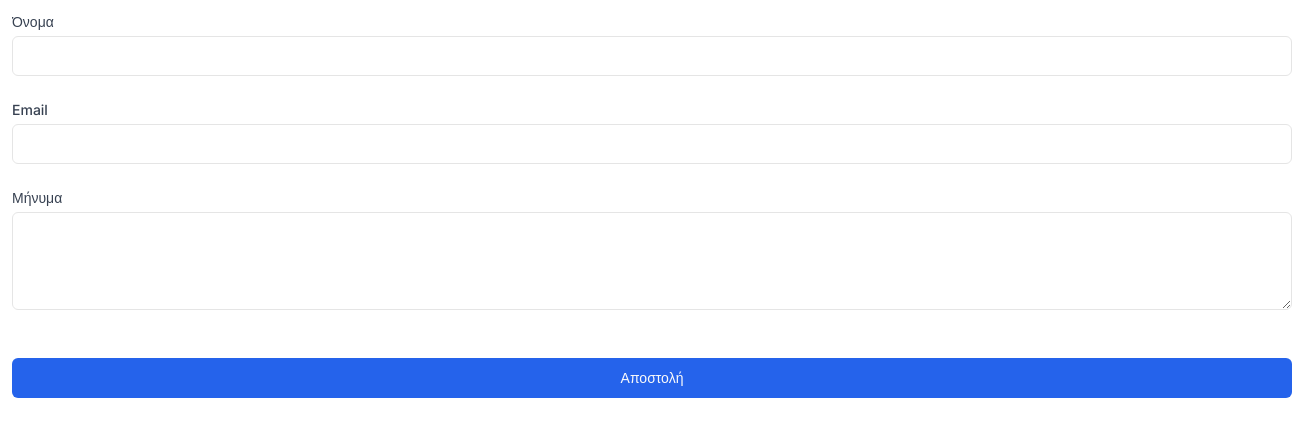
Scenario: ContactForm › handles form submission
Type "John Doe" into the field labelled "Όνομα". click: [652, 56]
box: [12,36,1292,76]
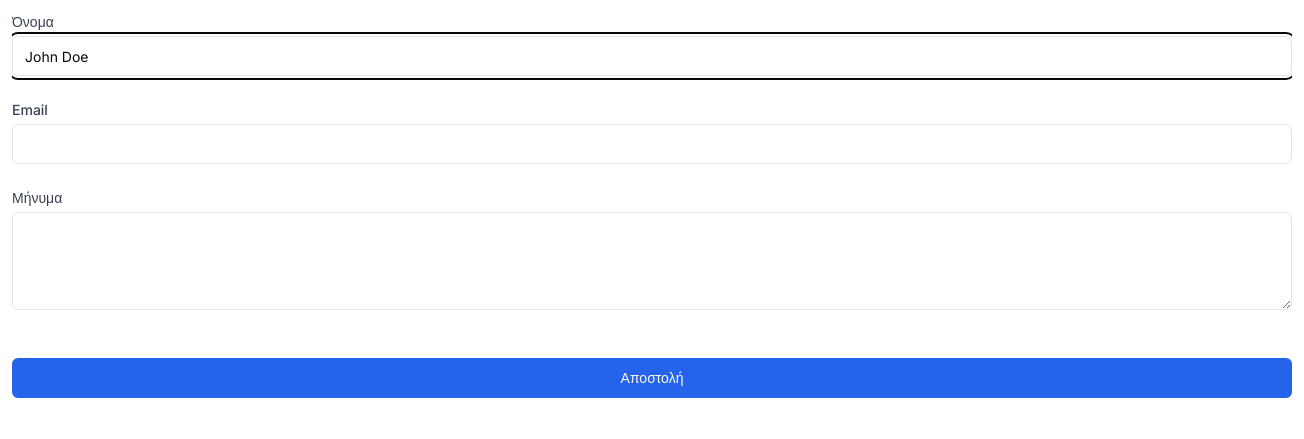
Type "john@example.com" into the field labelled "Email". click: [652, 144]
box: [12,124,1292,164]
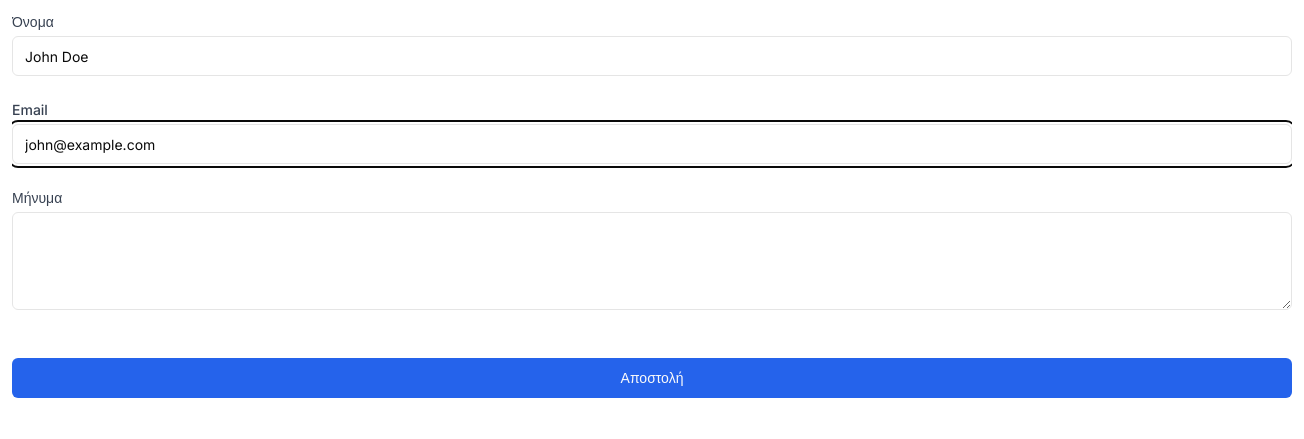
Type "too small msg" into the text box labelled "Μήνυμα". click: [652, 261]
box: [12,212,1292,310]
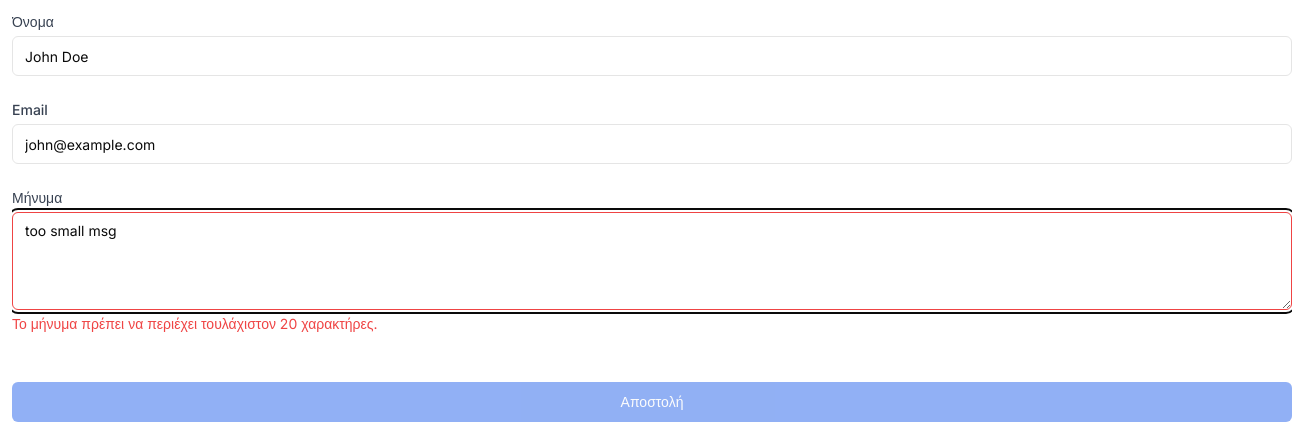
Click the button "Αποστολή". click: [652, 402]
box: [12,382,1292,422]
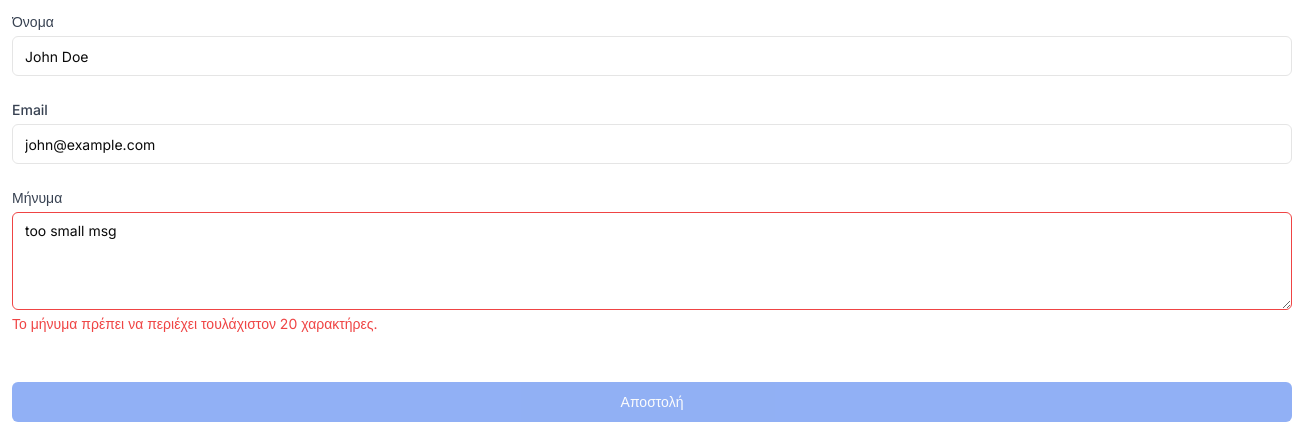
Expected: the button "Αποστολή" is disabled, [12,382,1292,422]
Expected: the text "Το μήνυμα πρέπει να περιέχει τουλάχιστον 20 χαρακτήρες." is shown, [12,315,378,332]
Type "Big enough message to pass validation" into the text box labelled "Μήνυμα". click: [652, 261]
box: [12,212,1292,310]
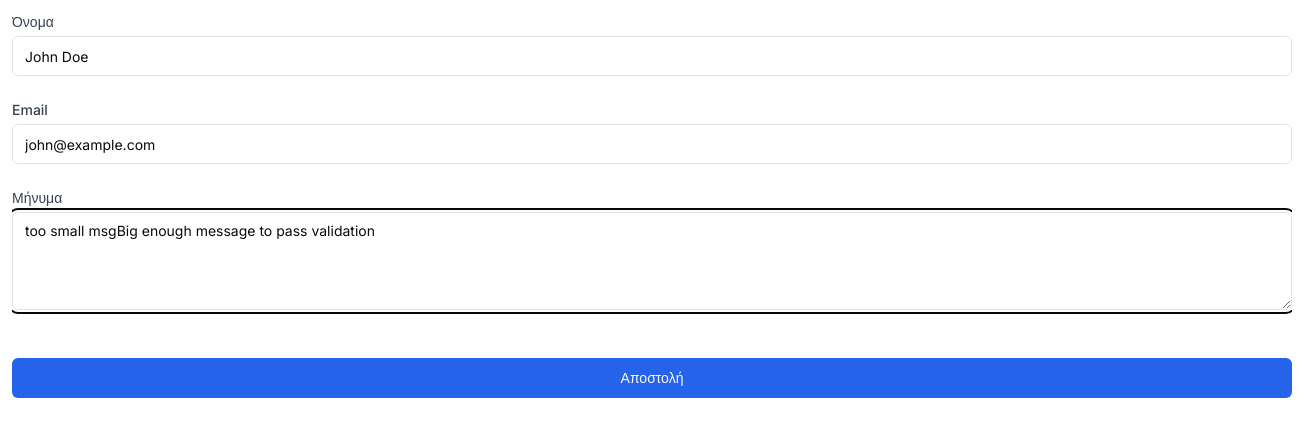
Expected: the button "Αποστολή" is enabled, [12,358,1292,398]
